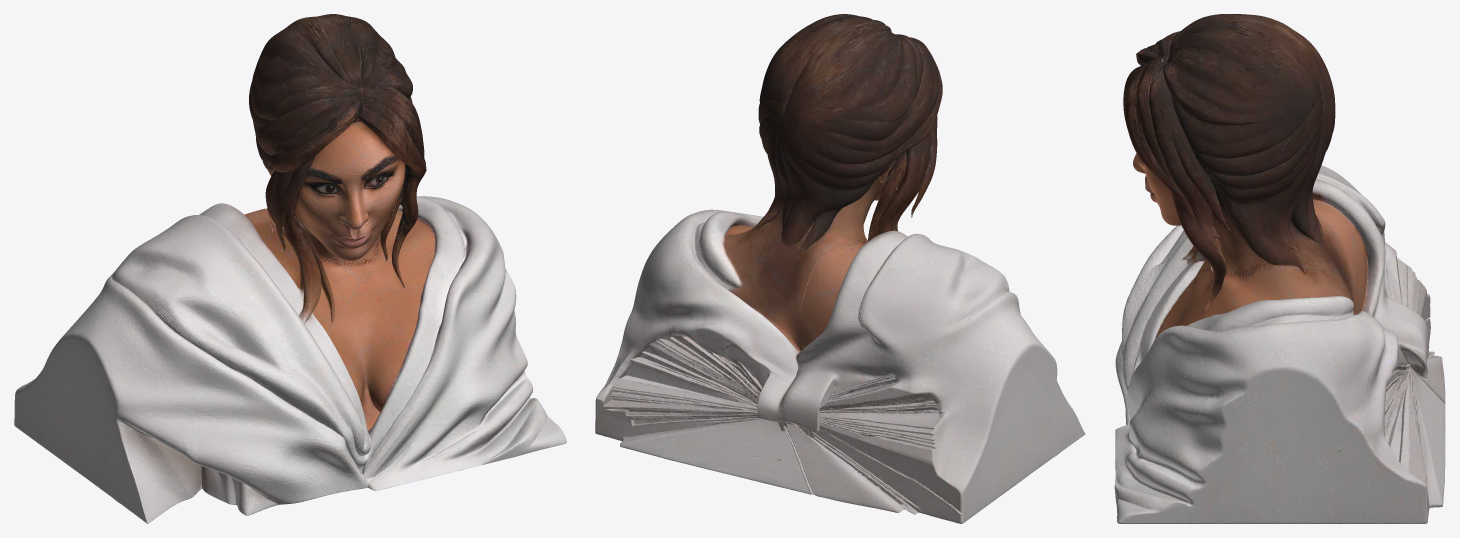
The model's file is Alisa.preview-v1.glb.
3 views of the same model, side by side, from view 1: azimuth 30°, elevation 25°; view 2: azimuth 150°, elevation 25°; view 3: azimuth 270°, elevation 25° (orthographic). The views are drawn at different scales.
Parts seen in each view (by area): view 1: tmps5adzyym.obj; view 2: tmps5adzyym.obj; view 3: tmps5adzyym.obj.
Boxes of the visible parts, left/top/right/bottom form: tmps5adzyym.obj: left=14, top=14, right=566, bottom=523; tmps5adzyym.obj: left=595, top=14, right=1085, bottom=523; tmps5adzyym.obj: left=1114, top=14, right=1445, bottom=523.
Size of the model in its own units: 1.41 by 1.41 by 1.01.
Materials: 1 (1 with a texture image).
